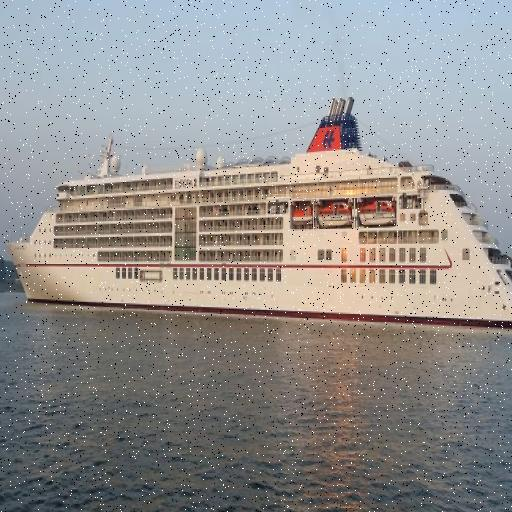cruises: (1, 87, 512, 339)
